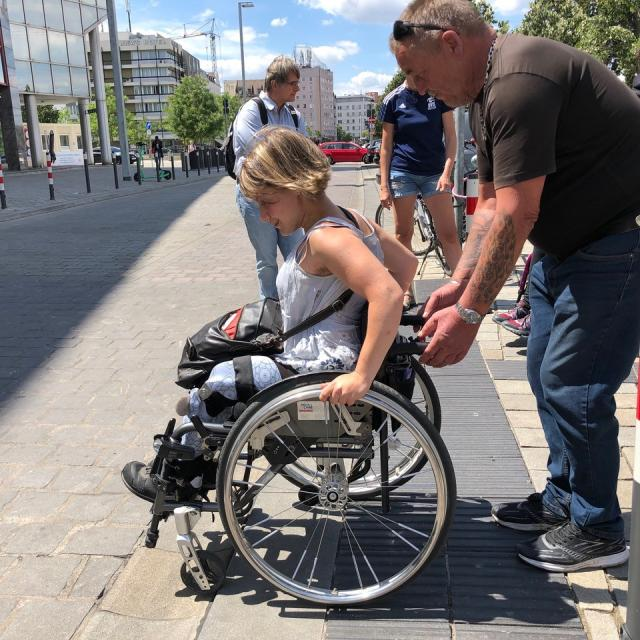wheelchairs: (92, 274, 471, 616)
